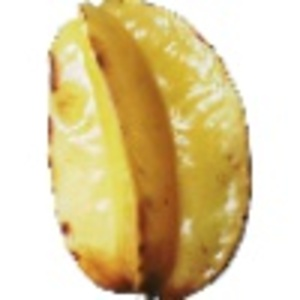carambola: (46, 1, 254, 300)
